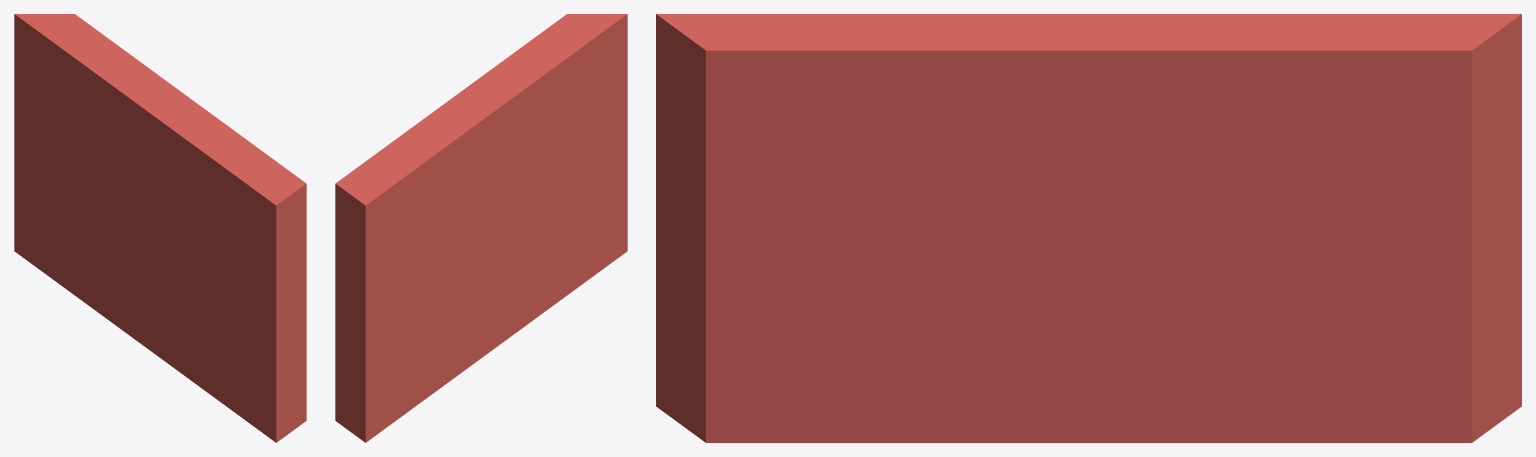
The model's file is mid_wall_0.fbx.
3 views of the same model, side by side, from view 1: azimuth 30°, elevation 25°; view 2: azimuth 150°, elevation 25°; view 3: azimuth 270°, elevation 25° (orthographic). The views are drawn at different scales.
Parts seen in each view (by area): view 1: mid_wall_0; view 2: mid_wall_0; view 3: mid_wall_0.
Boxes of the visible parts, bbox=[...] form: mid_wall_0: bbox=[14, 14, 306, 442]; mid_wall_0: bbox=[335, 14, 627, 442]; mid_wall_0: bbox=[656, 14, 1521, 442].
Size of the model in its own units: 20 by 100 by 200.
